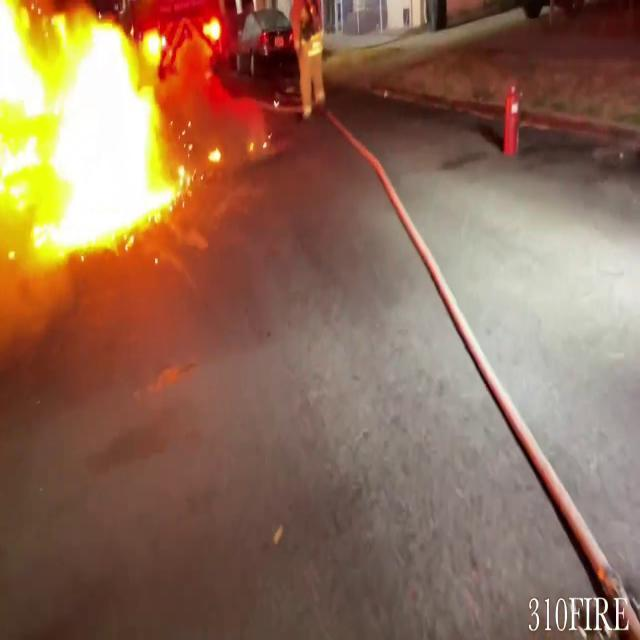Fire: (1, 4, 188, 263)
